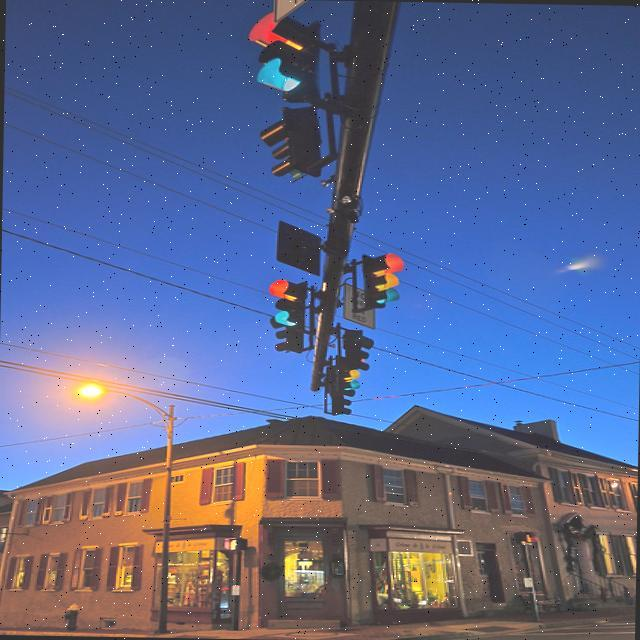fire_hydrant: (61, 600, 80, 630)
